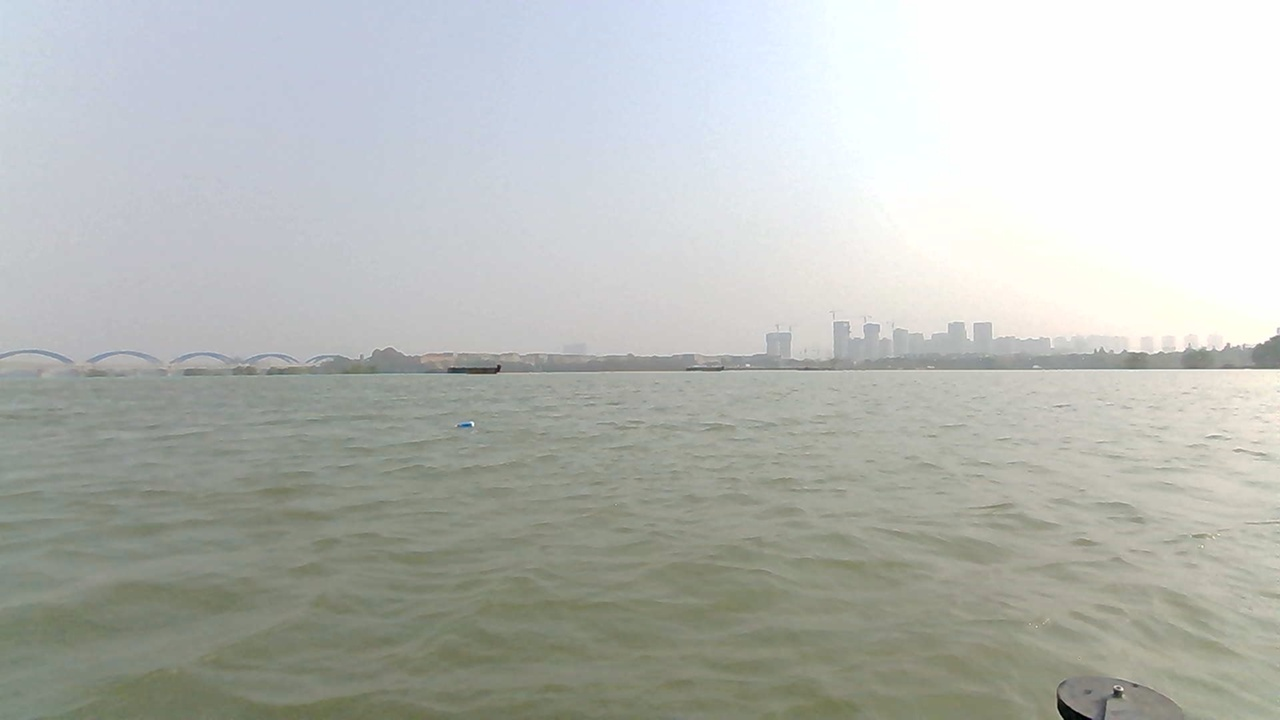bottle: (452, 419, 481, 433)
